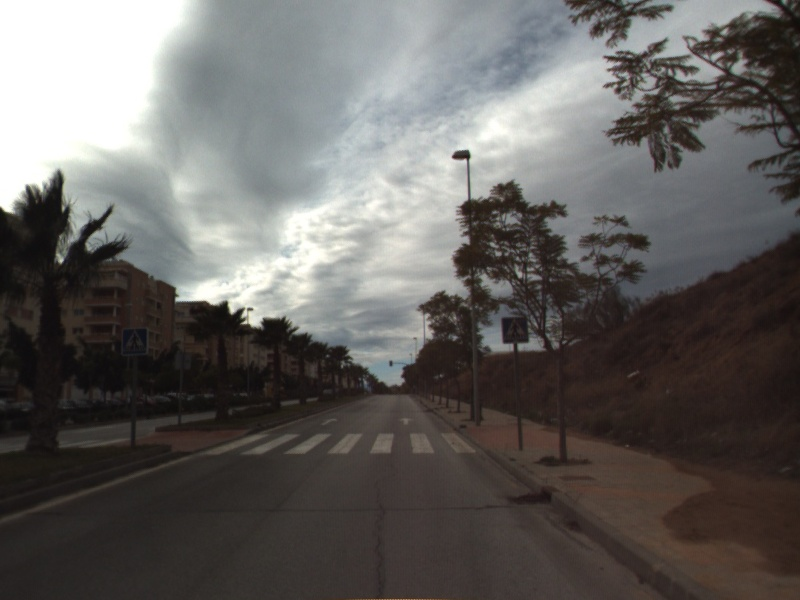STRAIGHT: (319, 416, 339, 427), (397, 415, 415, 427)
